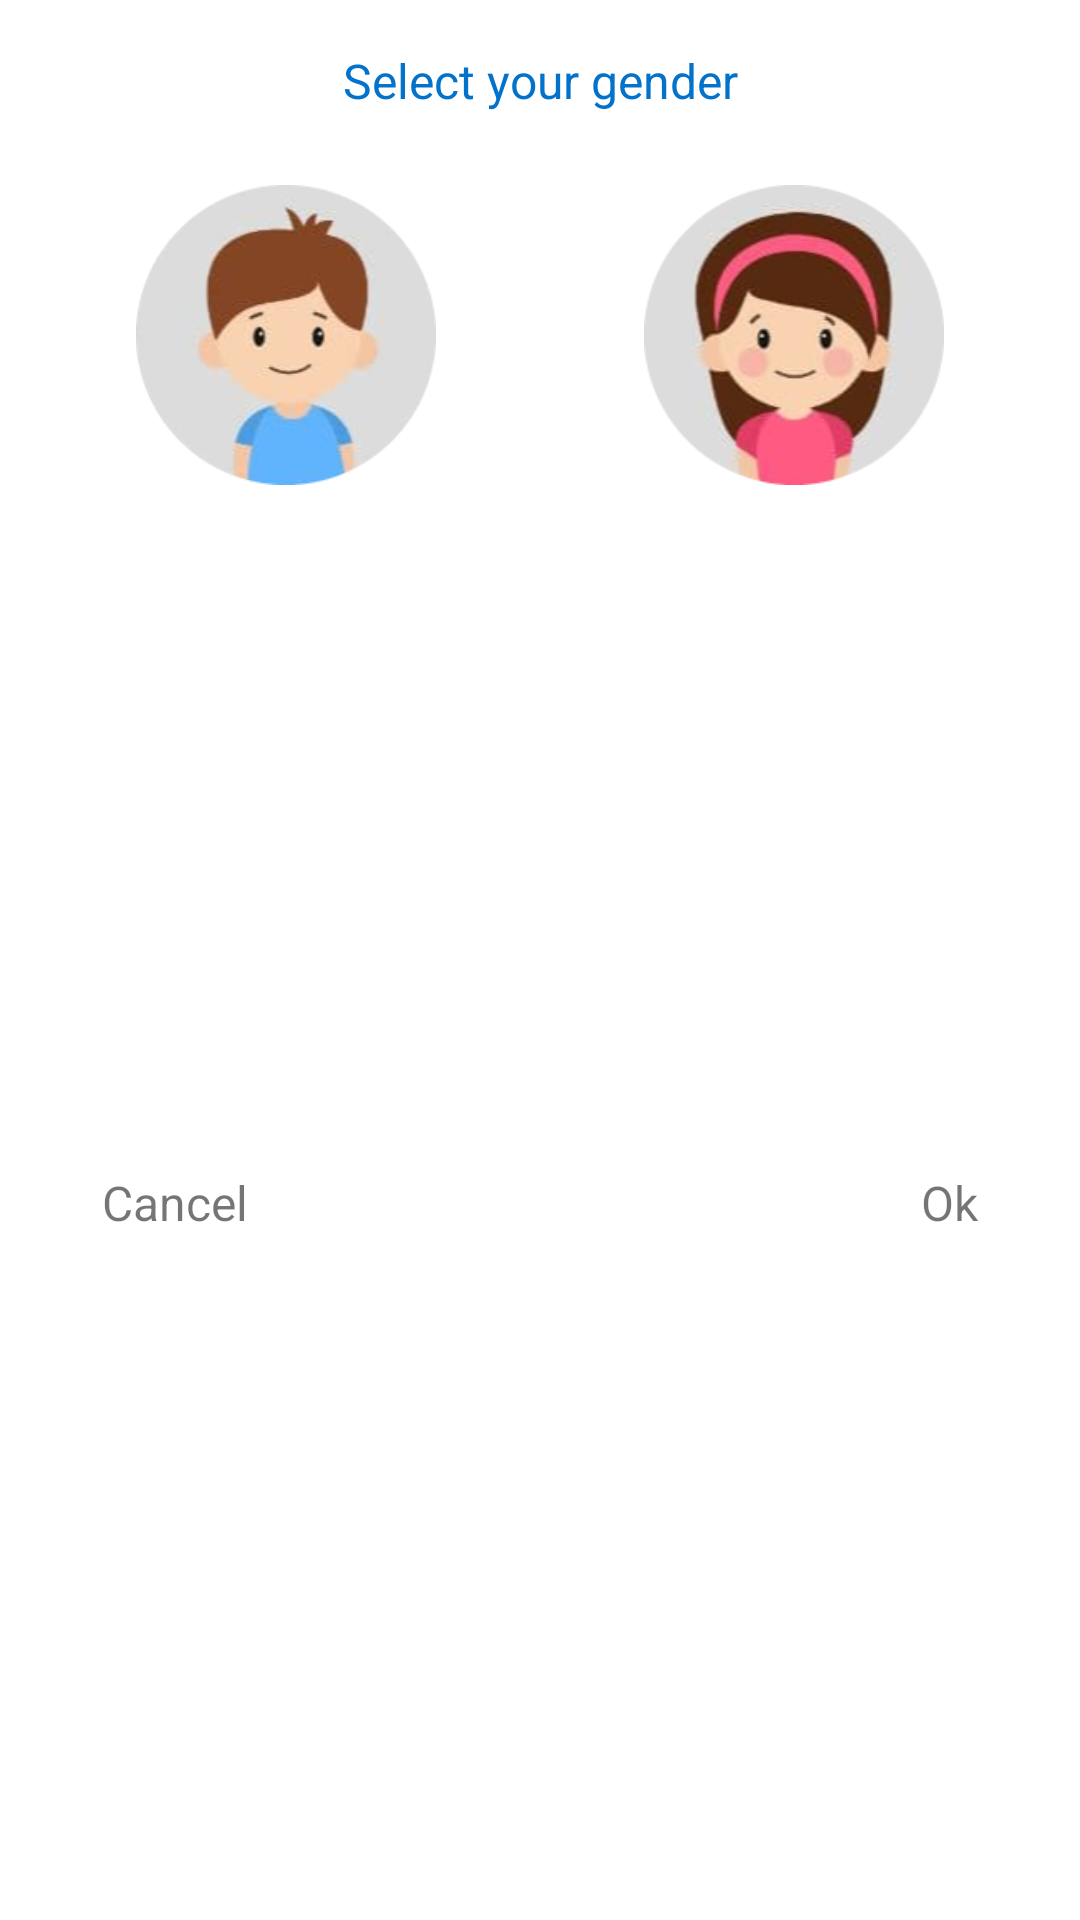

Named icons in this screenshot (1080×1920) and their centers, (x=x, y=y):
boy: (x=286, y=335)
girl: (x=794, y=335)
